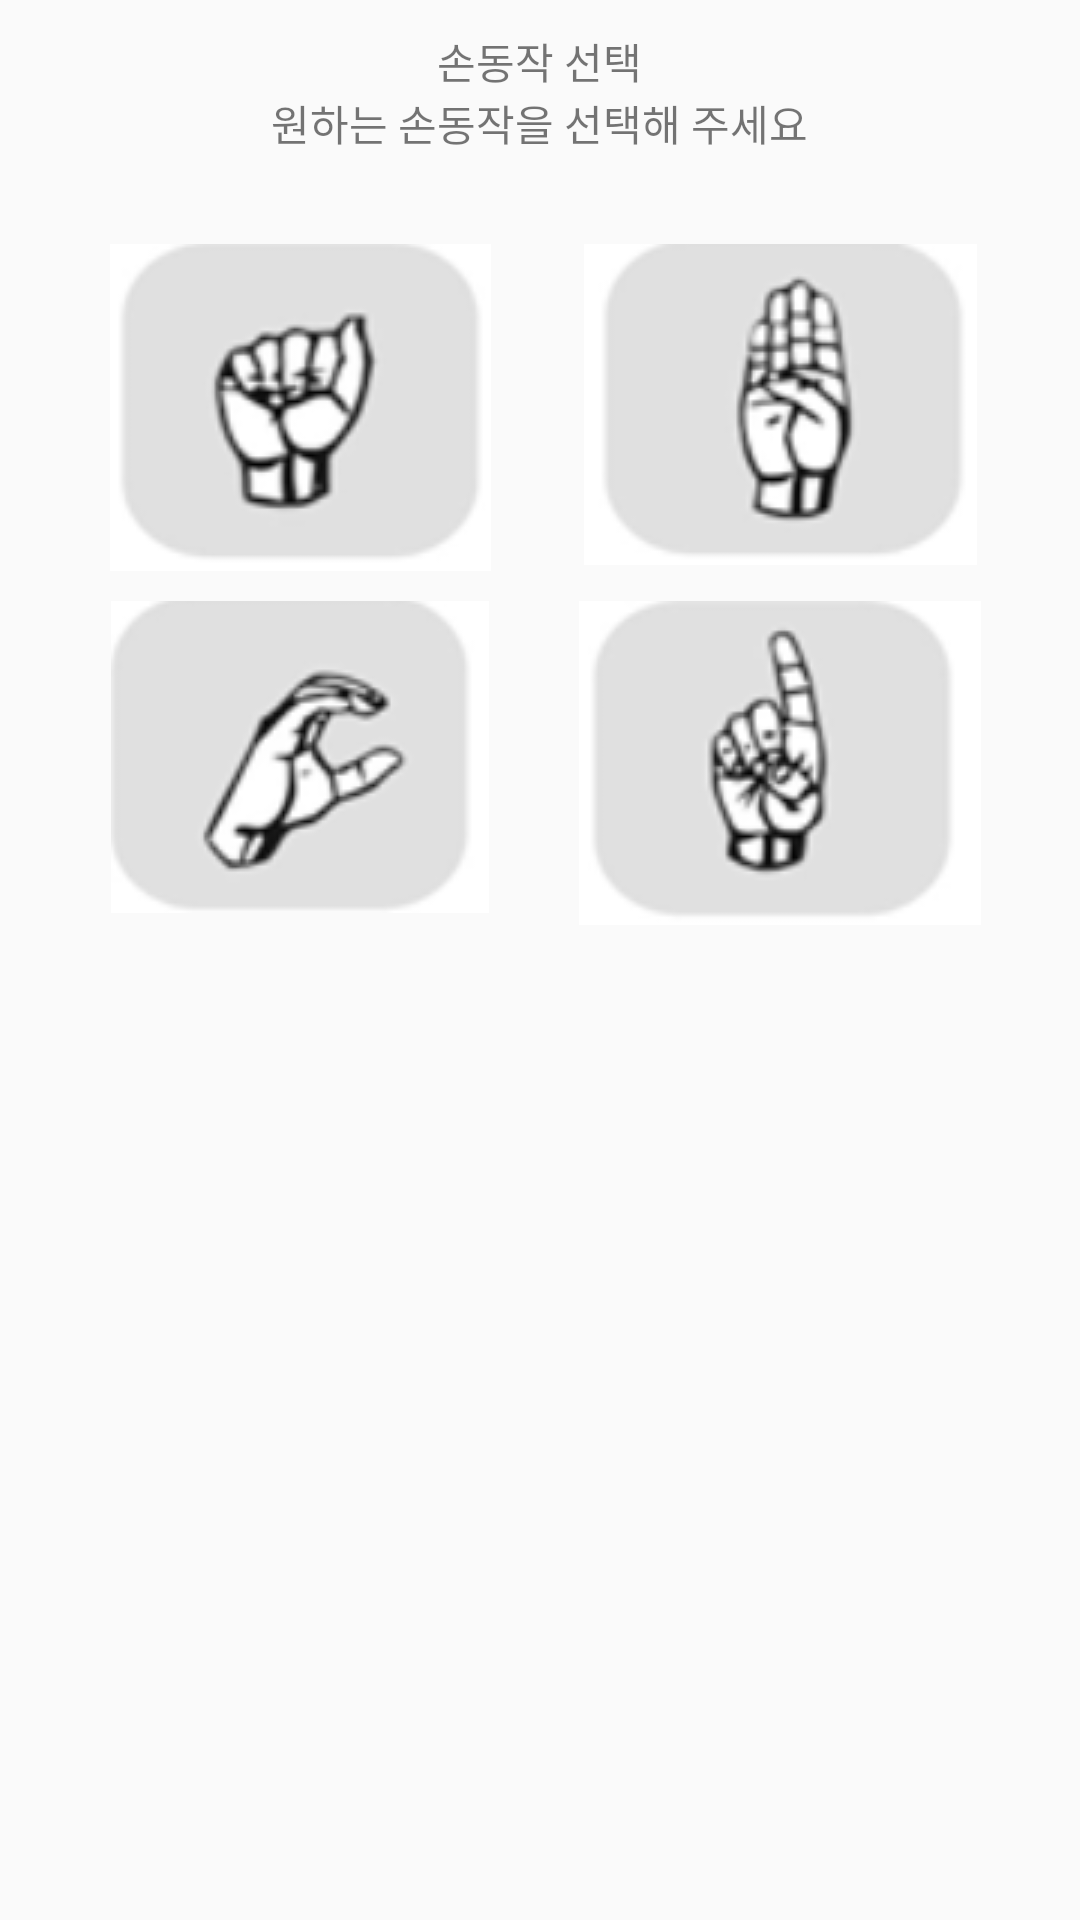

Screen size 1080×1920. Icon name, then its center in pixels as (x,y):
hand: (783,398), (300,400), (289,753), (772,758)
